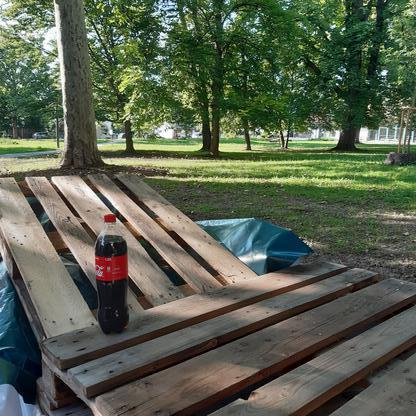coca-cola: (93, 213, 131, 338)
